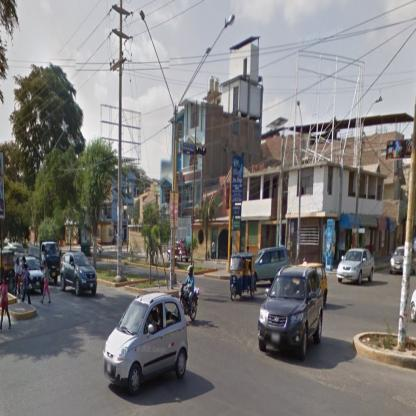Peaton: (1, 276, 12, 331), (41, 263, 52, 306), (22, 266, 32, 306)
Vehiculo: (104, 292, 189, 398), (259, 267, 324, 362), (61, 253, 98, 298), (338, 249, 376, 286), (231, 253, 258, 303)
